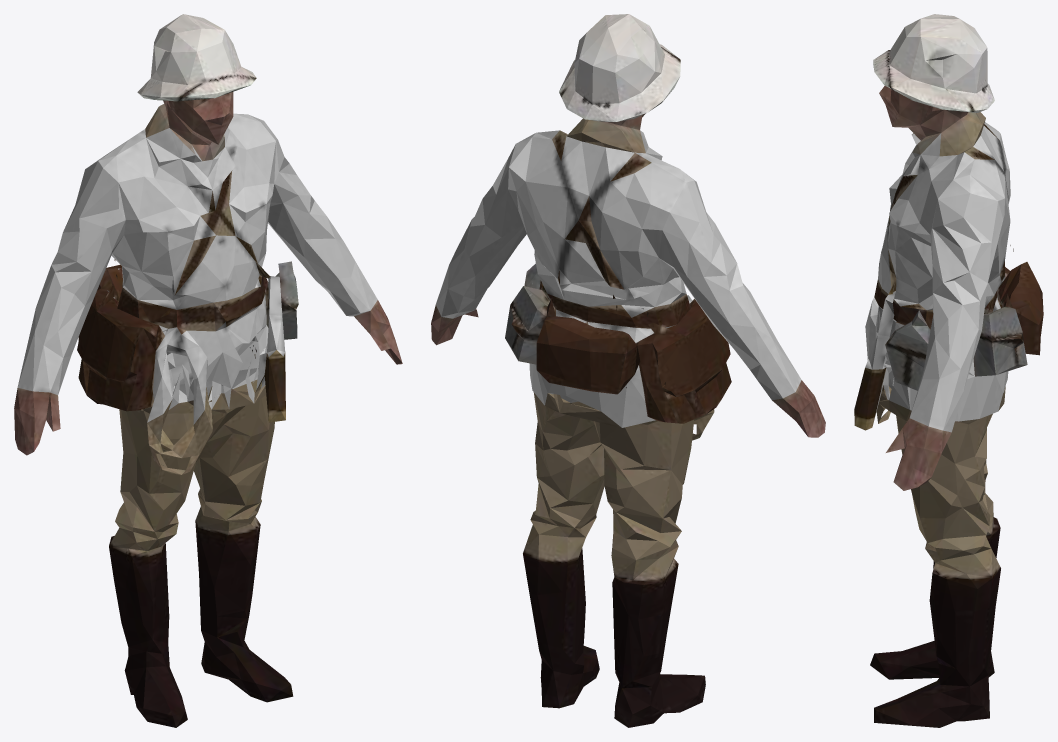
The model's file is realistic-cc0.a27e789144ee.explorer.glb.
The picture shows the model from 3 angles, left to right: view 1: azimuth 30°, elevation 25°; view 2: azimuth 150°, elevation 25°; view 3: azimuth 270°, elevation 25°; orthographic projection.
Visible parts, largest first — view 1: explorer; view 2: explorer; view 3: explorer.
Part boxes in pixels (bbox=[...]): explorer: bbox=[14, 14, 402, 727]; explorer: bbox=[431, 14, 825, 727]; explorer: bbox=[854, 14, 1043, 727].
Bounding box in the file's own units: 1.06 × 1.8 × 0.4557.
2 materials, 2 textured.
